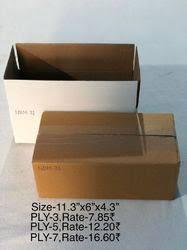Cardboard: (3, 25, 187, 201)
